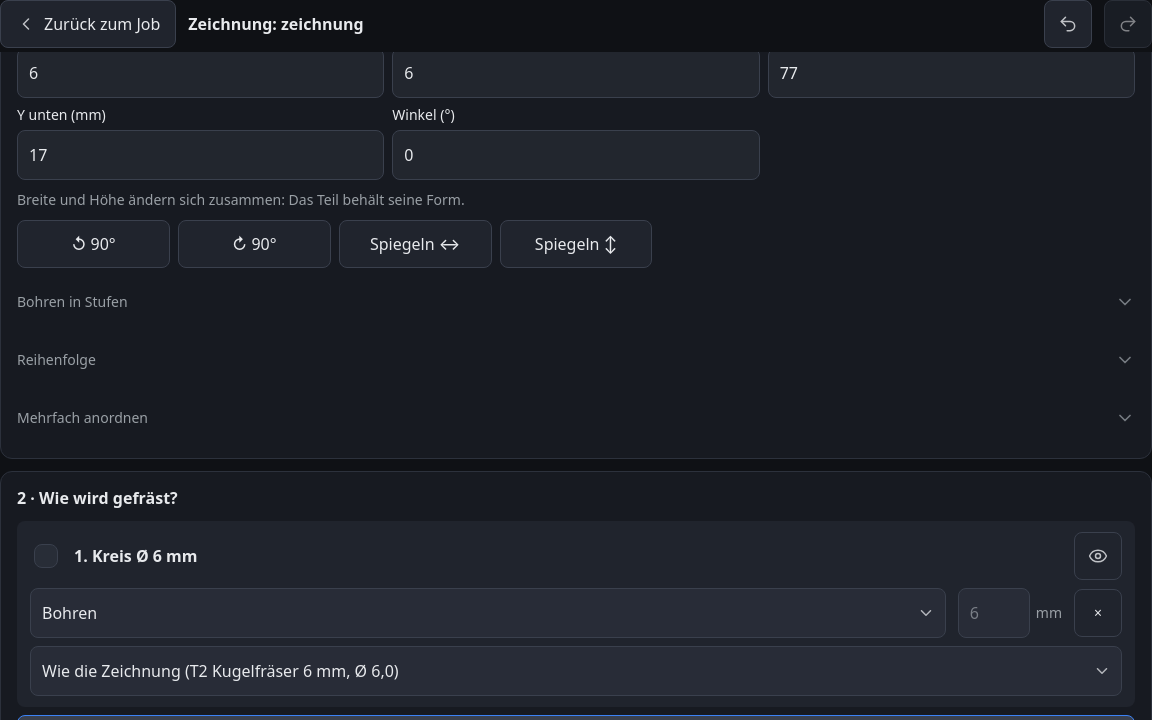
Test case: the panels of the toolpath options › "Reihenfolge": where the part comes, earlier and later, automatic, and every number gone
Click the button "Reihenfolge" at (56, 360), box [17,336,1135,384]
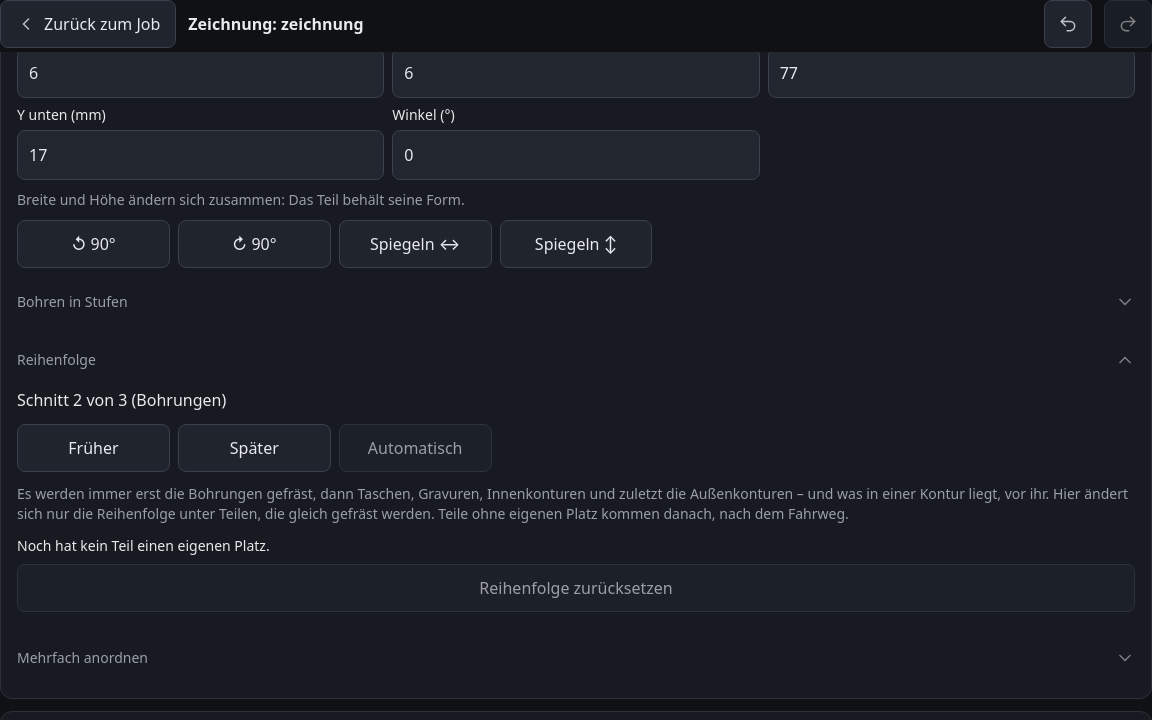
Now the button with test id "cam-order-auto" is disabled, box [339,424,492,472]
Now the text with test id "cam-order-counted" reads "Noch hat kein Teil einen eigenen Platz.", box [17,536,270,555]
Now the button with test id "cam-order-reset" is disabled, box [17,564,1135,612]
Click the button with test id "cam-order-earlier" at (93, 448), box [17,424,170,472]
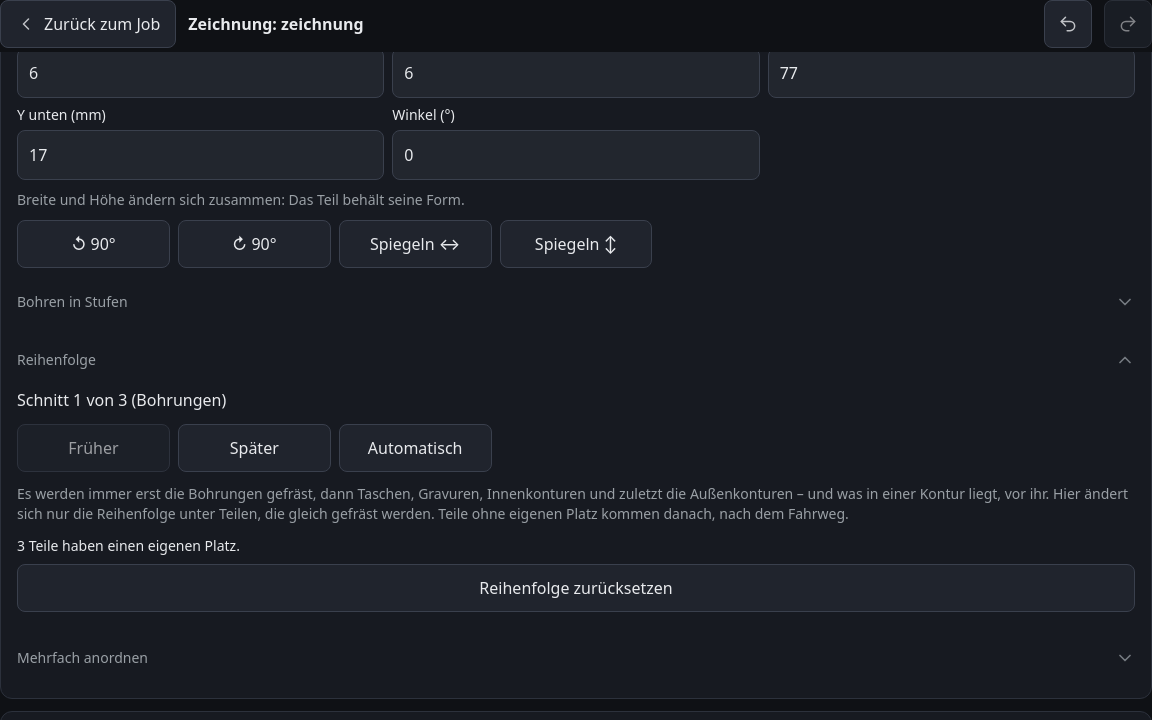
Now the button with test id "cam-order-earlier" is disabled, box [17,424,170,472]
Click the button with test id "cam-order-later" at (254, 448), box [178,424,331,472]
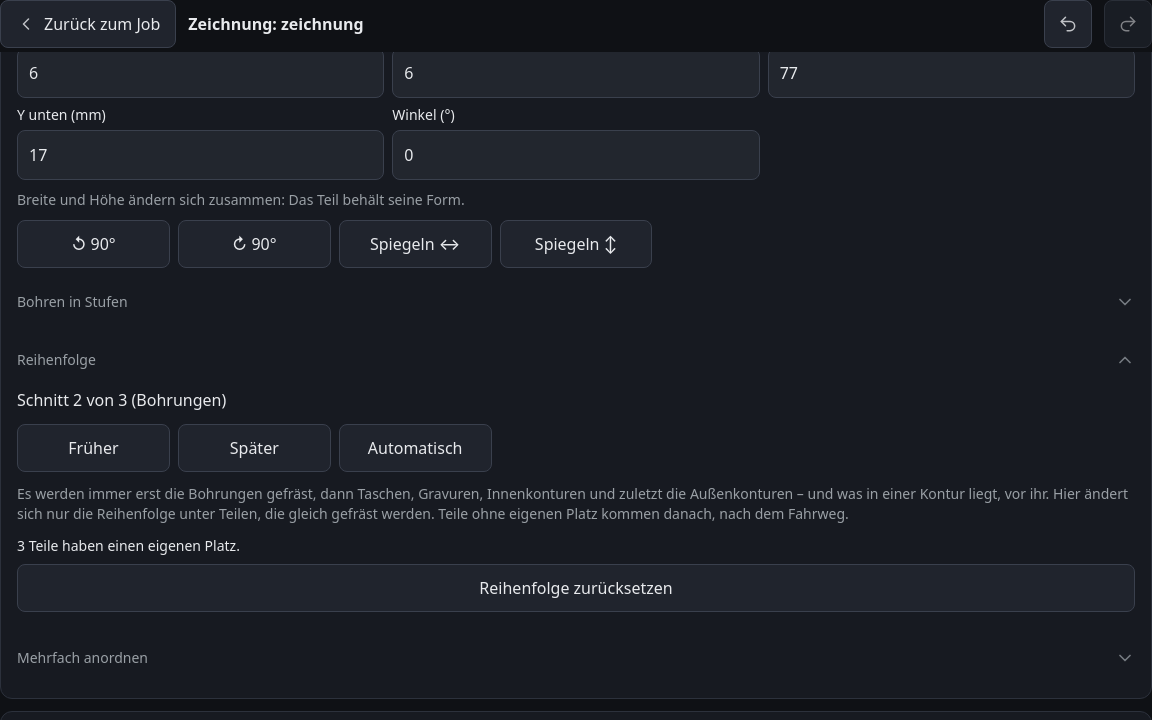
Click the button with test id "cam-order-auto" at (415, 448), box [339,424,492,472]
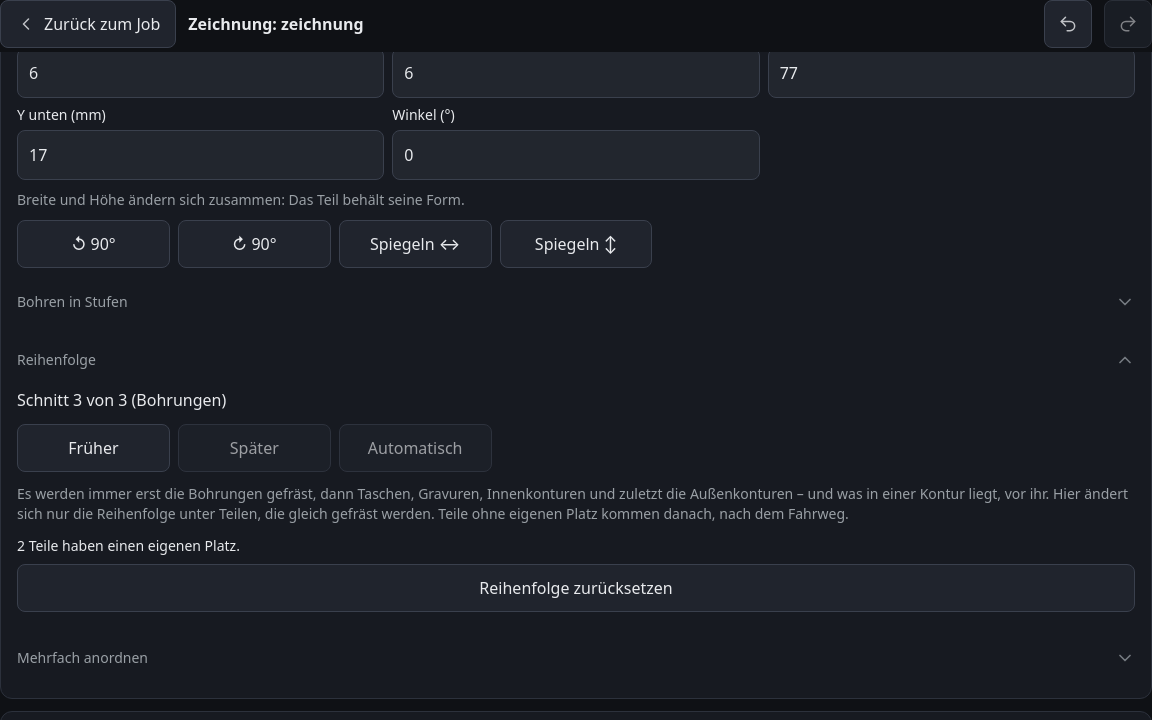
Click the button with test id "cam-order-reset" at (576, 588), box [17,564,1135,612]
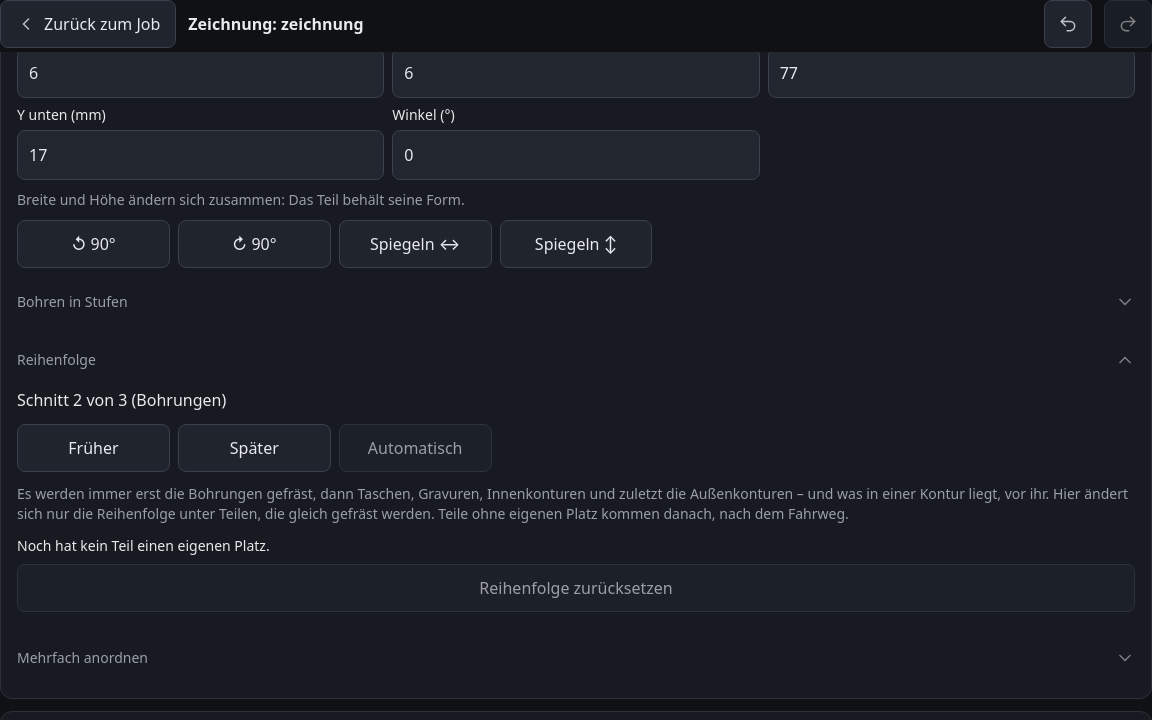
Now the button with test id "cam-order-reset" is disabled, box [17,564,1135,612]
Now the text with test id "cam-order-counted" reads "Noch hat kein Teil einen eigenen Platz.", box [17,536,270,555]
